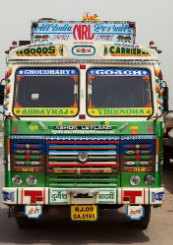truck: (1, 11, 166, 237)
